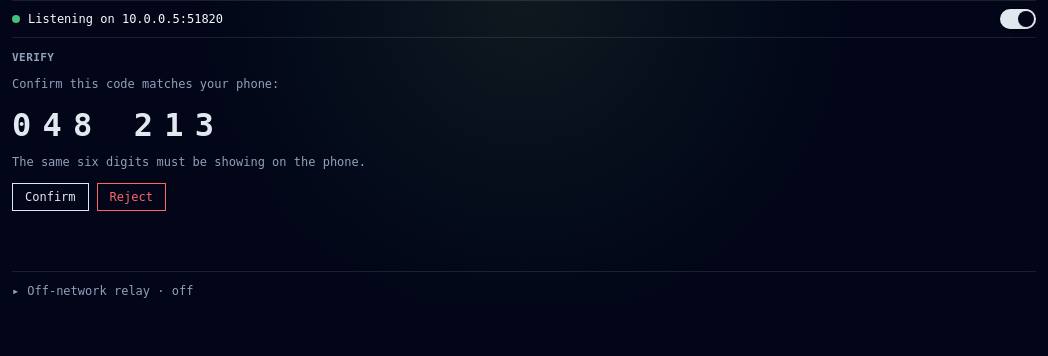
Scenario: PhoneBridgePanel state machine › surfaces a rejected action as an inline error
Click the button "Confirm": {"x": 50, "y": 196} [12,182,89,210]
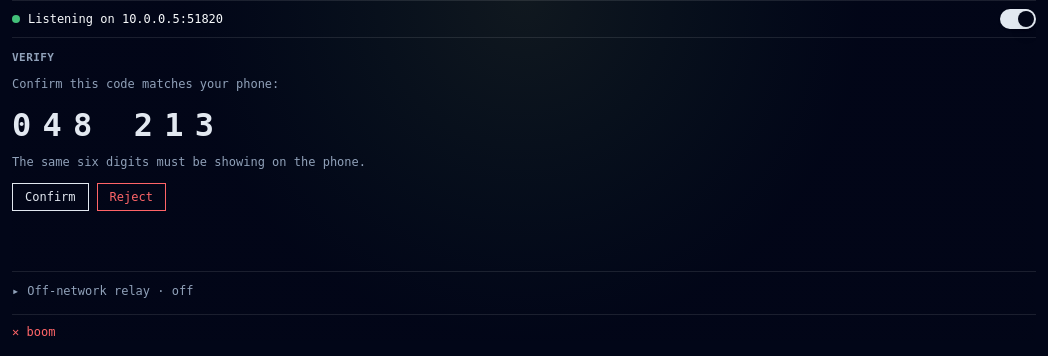
Result: the text with test id "action-error" shows "boom" at [26,325,55,339]
